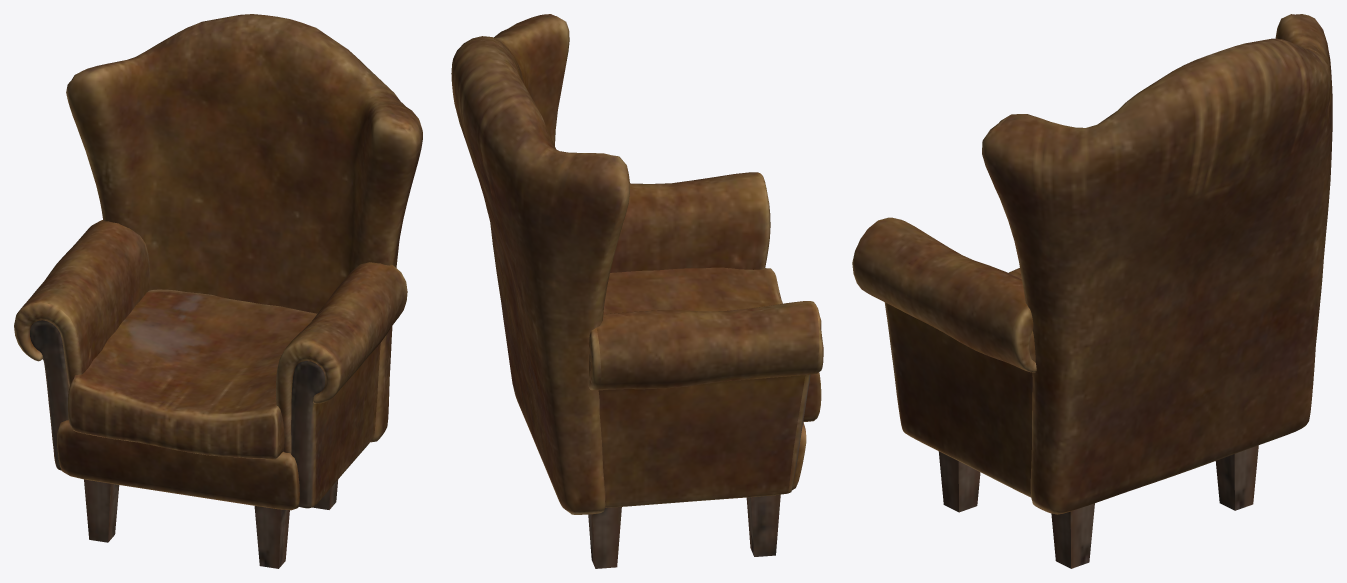
Rendered from chair.gltf.
3 views of the same model, side by side, from view 1: azimuth 30°, elevation 25°; view 2: azimuth 150°, elevation 25°; view 3: azimuth 270°, elevation 25° (orthographic). The views are drawn at different scales.
Parts seen in each view (by area): view 1: Plane.005; view 2: Plane.005; view 3: Plane.005.
Part boxes in pixels (bbox=[...]): Plane.005: bbox=[14, 14, 422, 568]; Plane.005: bbox=[451, 14, 823, 568]; Plane.005: bbox=[852, 14, 1332, 568].
Bounding box in the file's own units: 1.17 × 1.37 × 1.16.
Materials: 1 (1 with a texture image).
